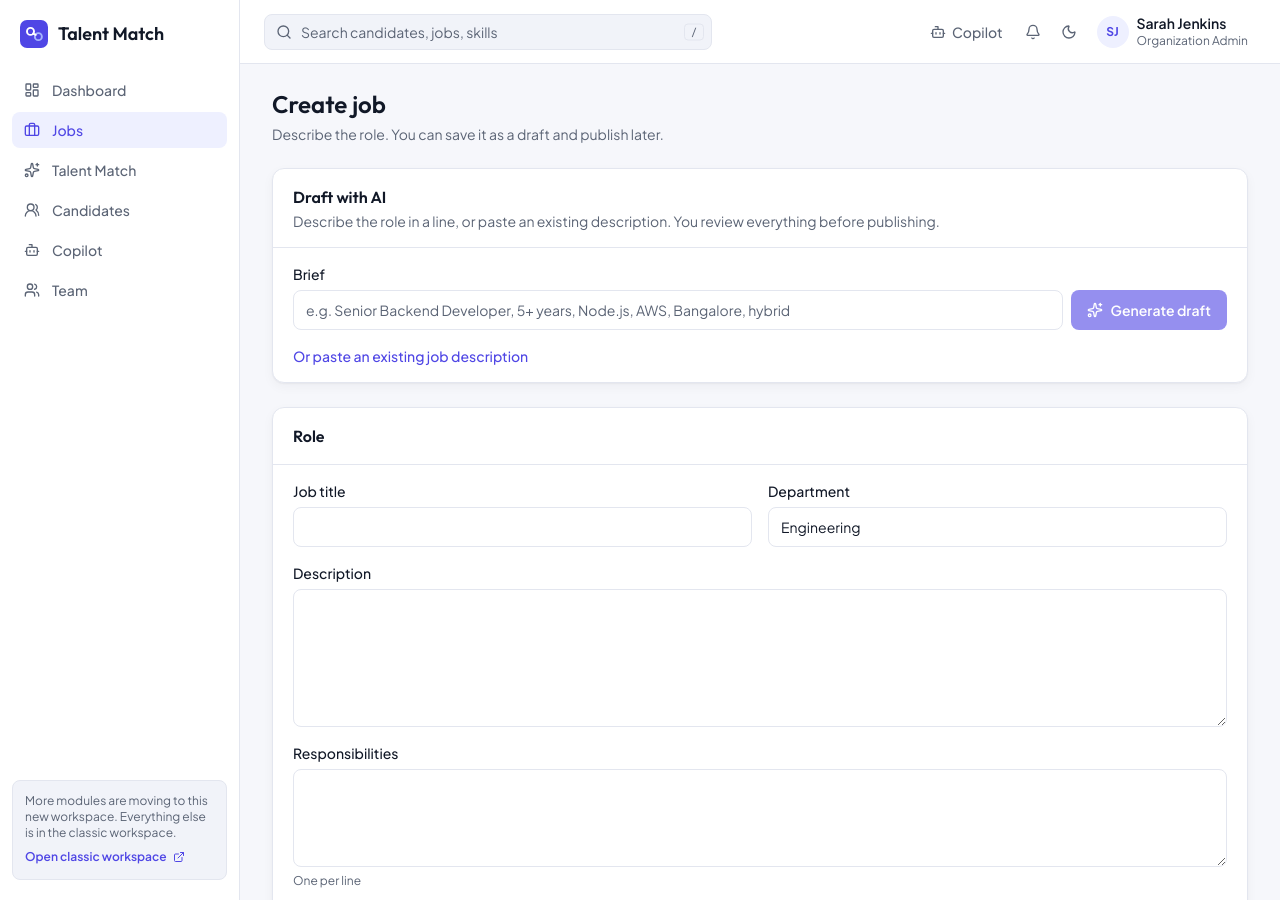
Test case: job draft assistant › fills the job form from a brief
Type "Senior Backend Developer, 5+ years, Node.js, AWS" into the field labelled "Brief".
click(678, 310); type("Senior Backend Developer, 5+ years, Node.js, AWS")  # box [293,290,1063,330]
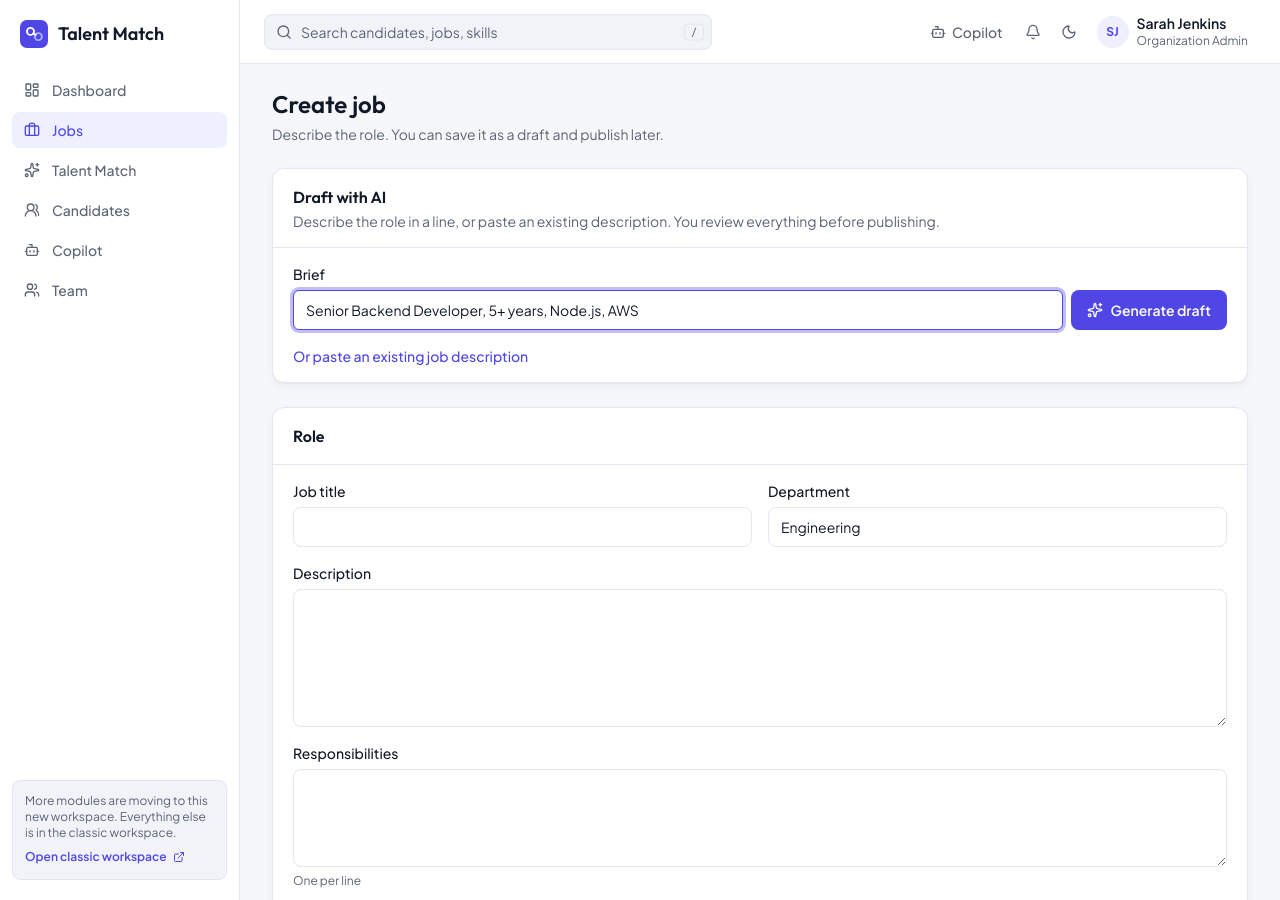
Click the button "Generate draft".
click(1149, 310)  # box [1071,290,1227,330]
(page scrolled)
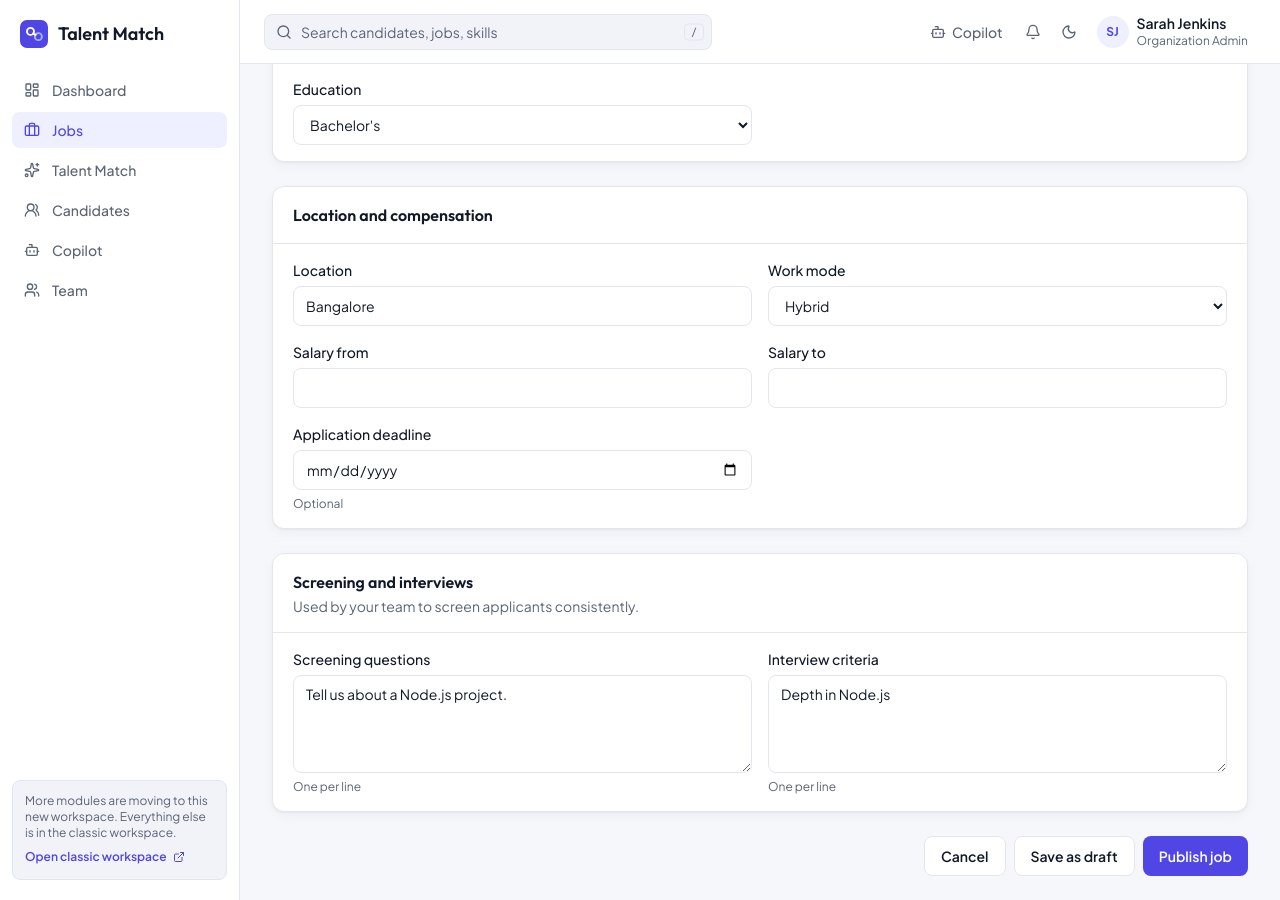
expect the dropdown labelled "Work mode" shows "Hybrid": met, box [768,286,1227,326]
expect the dropdown labelled "Education" shows "Bachelor's": met, box [293,105,752,145]
expect the text box labelled "Screening questions" holds "Tell us about a Node.js project.": met, box [293,675,752,773]
